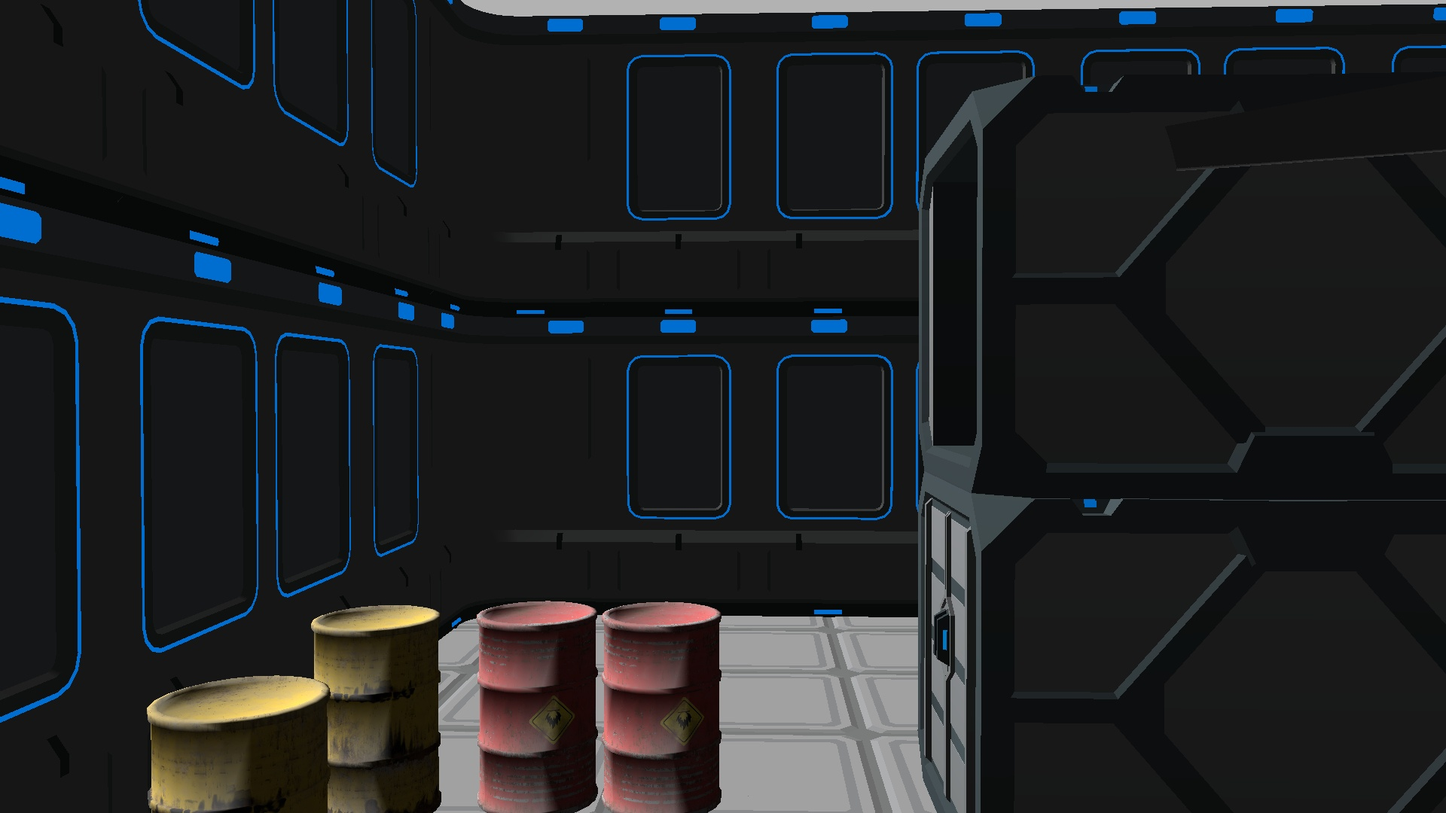toxic barrel: (311, 604, 441, 813), (145, 674, 330, 813), (477, 601, 598, 813), (601, 601, 722, 813)
